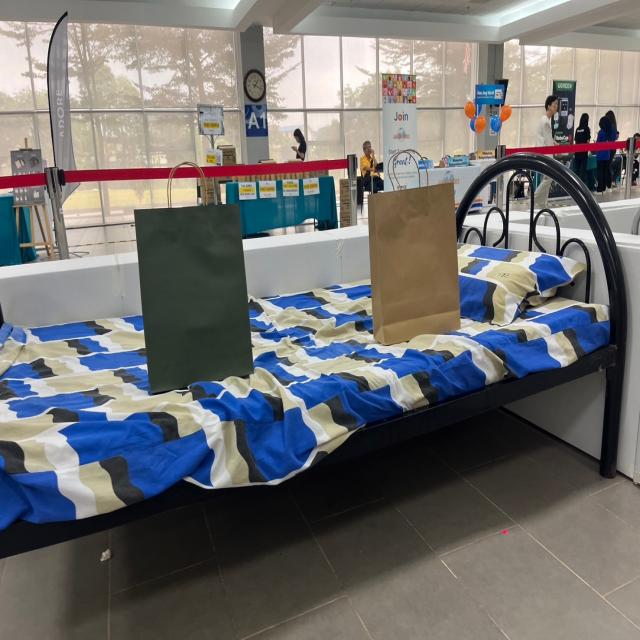bag: (135, 162, 259, 401), (362, 147, 470, 337)
